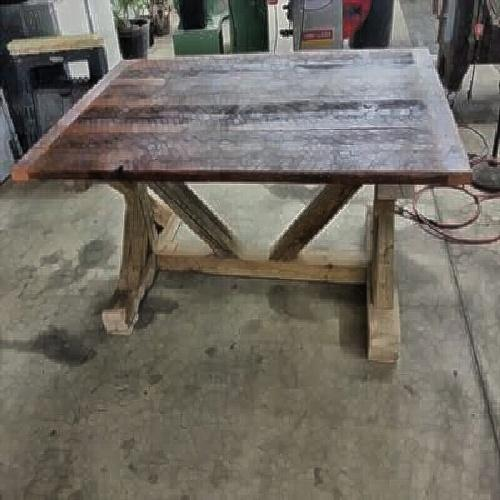table: (26, 48, 458, 355)
